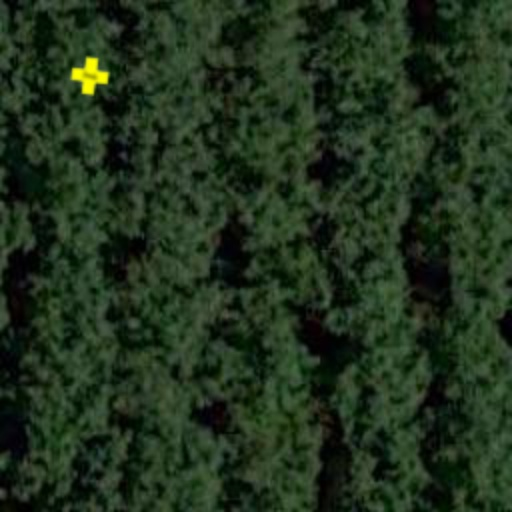cross: (68, 54, 112, 98)
